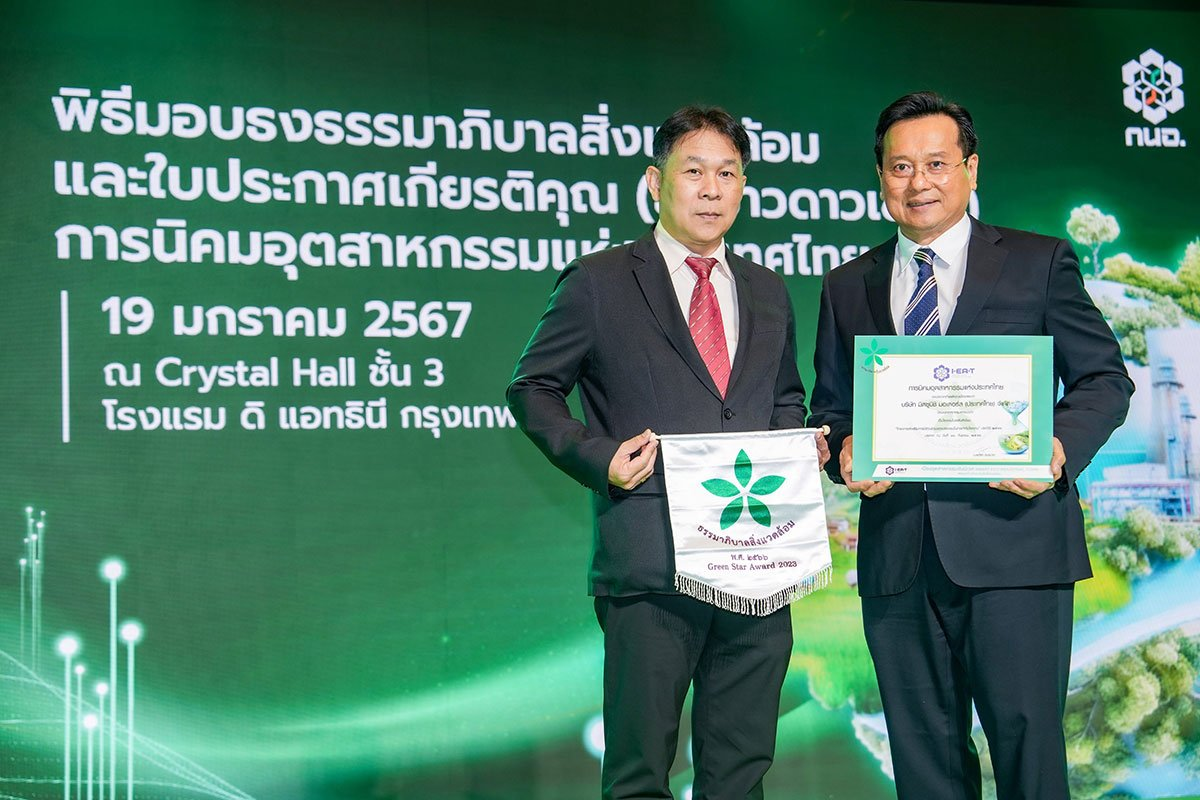text: (48, 77, 660, 163), (50, 141, 618, 227), (49, 210, 613, 287), (731, 229, 865, 280), (170, 300, 349, 338), (737, 183, 892, 224), (151, 353, 281, 396), (359, 296, 474, 340), (397, 399, 518, 439), (100, 396, 228, 432), (273, 394, 391, 433), (742, 120, 825, 170), (96, 290, 159, 339), (362, 343, 417, 391), (288, 352, 359, 389), (1120, 121, 1188, 152), (704, 556, 799, 574), (101, 356, 143, 389), (418, 349, 447, 388), (905, 381, 1005, 392), (237, 398, 267, 431), (902, 400, 993, 407), (728, 551, 769, 562), (951, 366, 974, 374)
